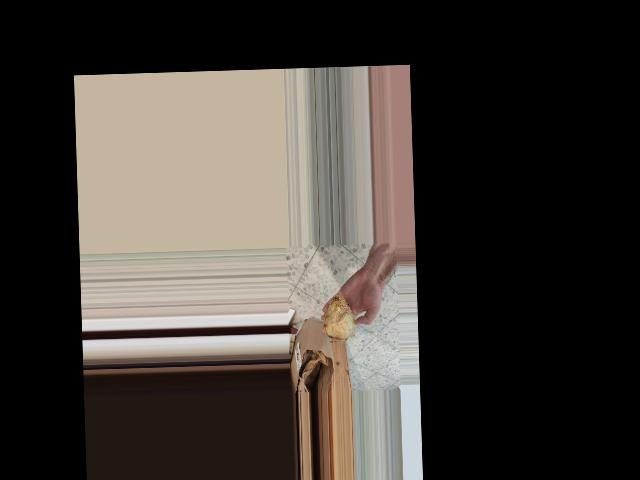onion: (320, 291, 362, 343)
